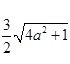sqrt: (18, 19, 69, 45)
square: (41, 25, 47, 35)
